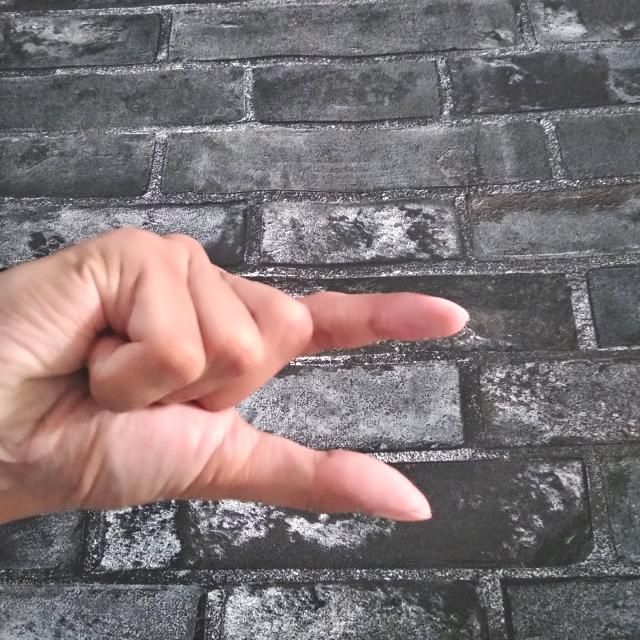G: (0, 223, 474, 535)
